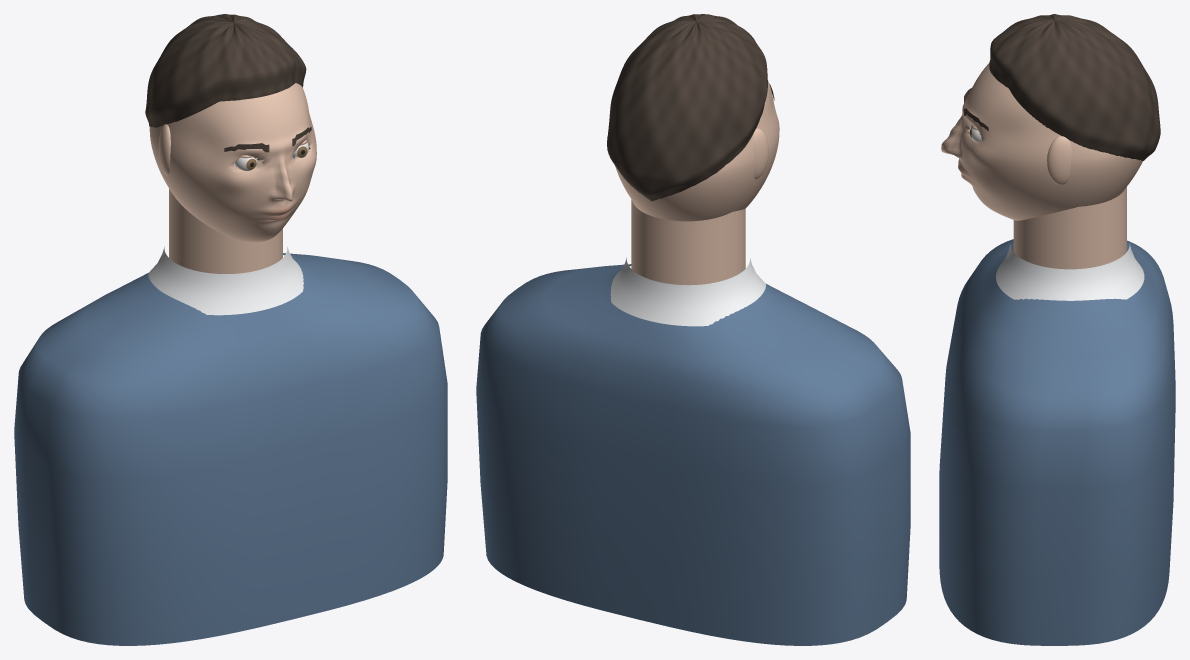
Rendered from tutor.glb.
3 views of the same model, side by side, from view 1: azimuth 30°, elevation 25°; view 2: azimuth 150°, elevation 25°; view 3: azimuth 270°, elevation 25° (orthographic). The views are drawn at different scales.
Visible parts, largest first — view 1: Body, FaceMesh; view 2: Body, FaceMesh; view 3: Body, FaceMesh.
Part boxes in pixels (x1,y1,x2,y2): Body: (14, 246, 447, 645); FaceMesh: (145, 14, 316, 273); Body: (476, 257, 910, 645); FaceMesh: (607, 14, 779, 285); Body: (939, 239, 1175, 645); FaceMesh: (941, 14, 1160, 269).
Size of the model in its own units: 0.448 by 0.6053 by 0.242.
